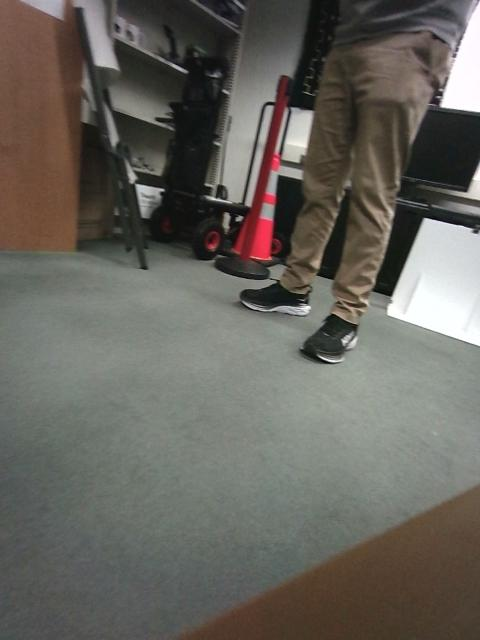block: (42, 277, 82, 317)
